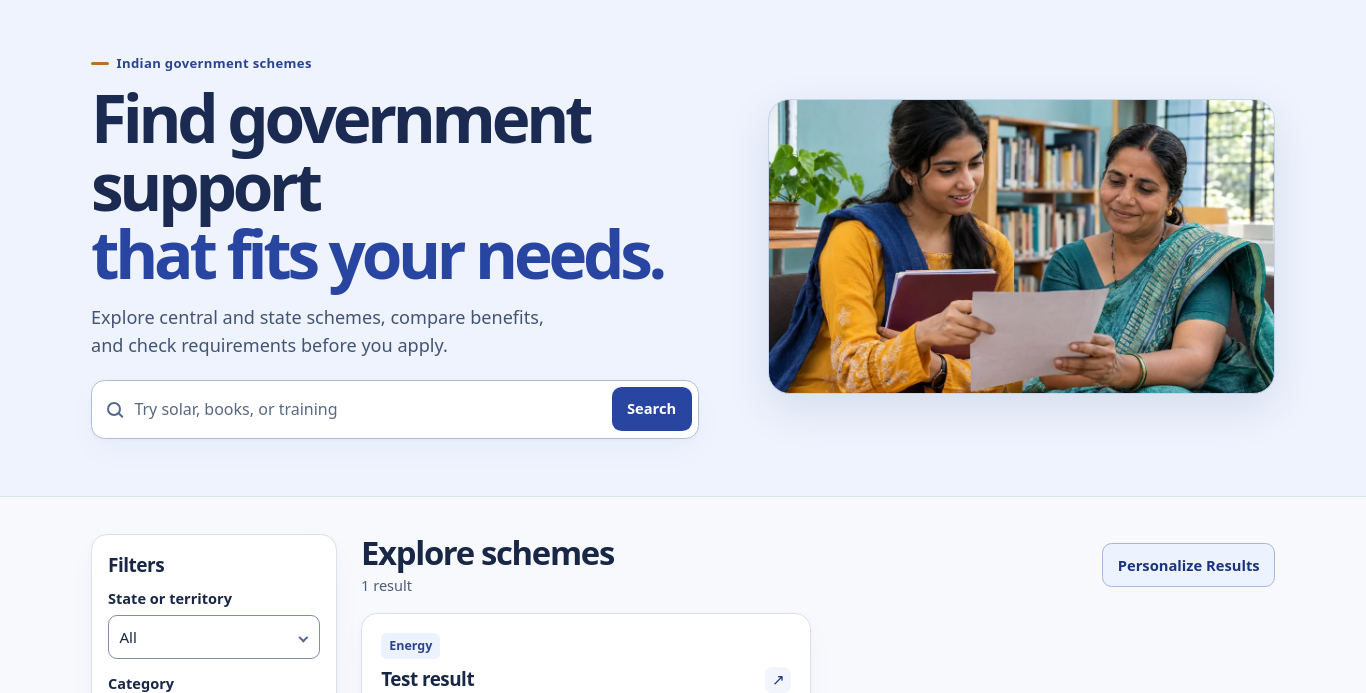
Test: formats income and shows questionnaire progress while submitting unchanged API values
This screenshot has width=1366, height=693.
Expected: the link "Test result" is shown, [381,668,791,692]
Click the button "Personalize Results". click: (1189, 565)
box: [1102,543,1275,587]
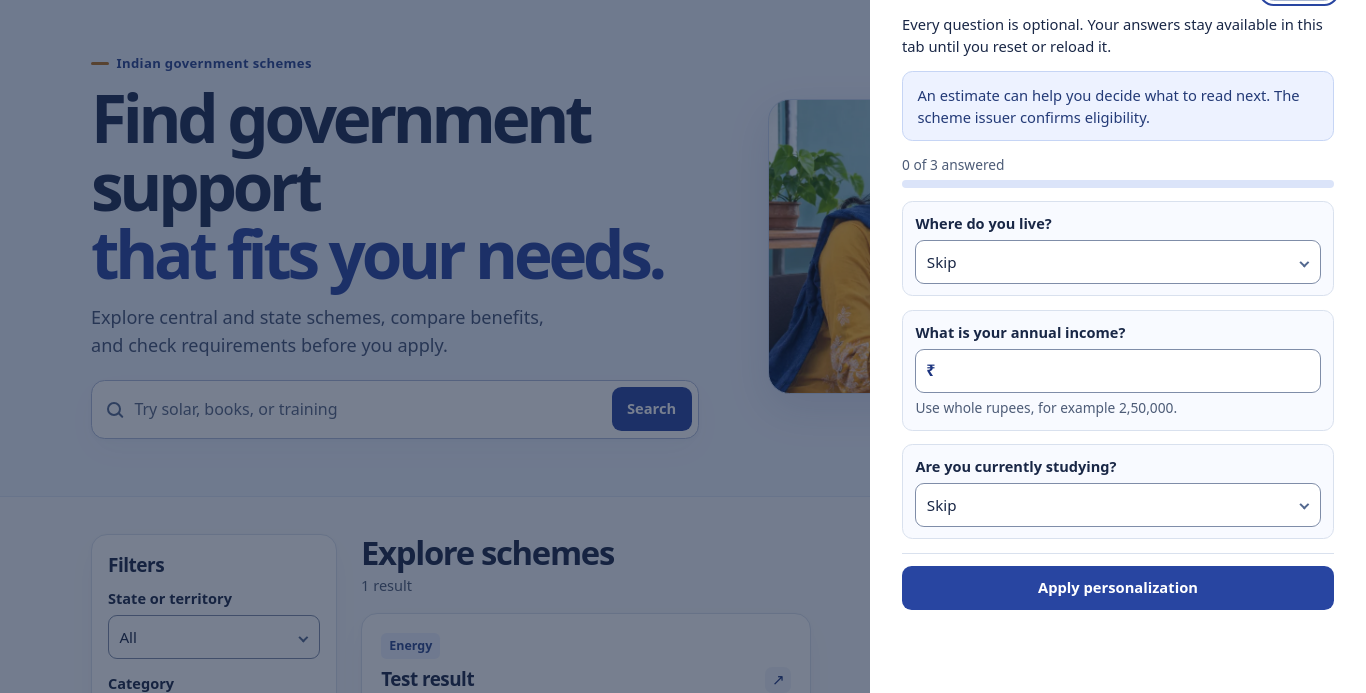
Expected: the progress indicator named "Questions answered" holds "0", [902,180,1334,188]
Type "250000" into the field labelled "What is your annual income?". click: (1118, 371)
box: [916,349,1321,393]
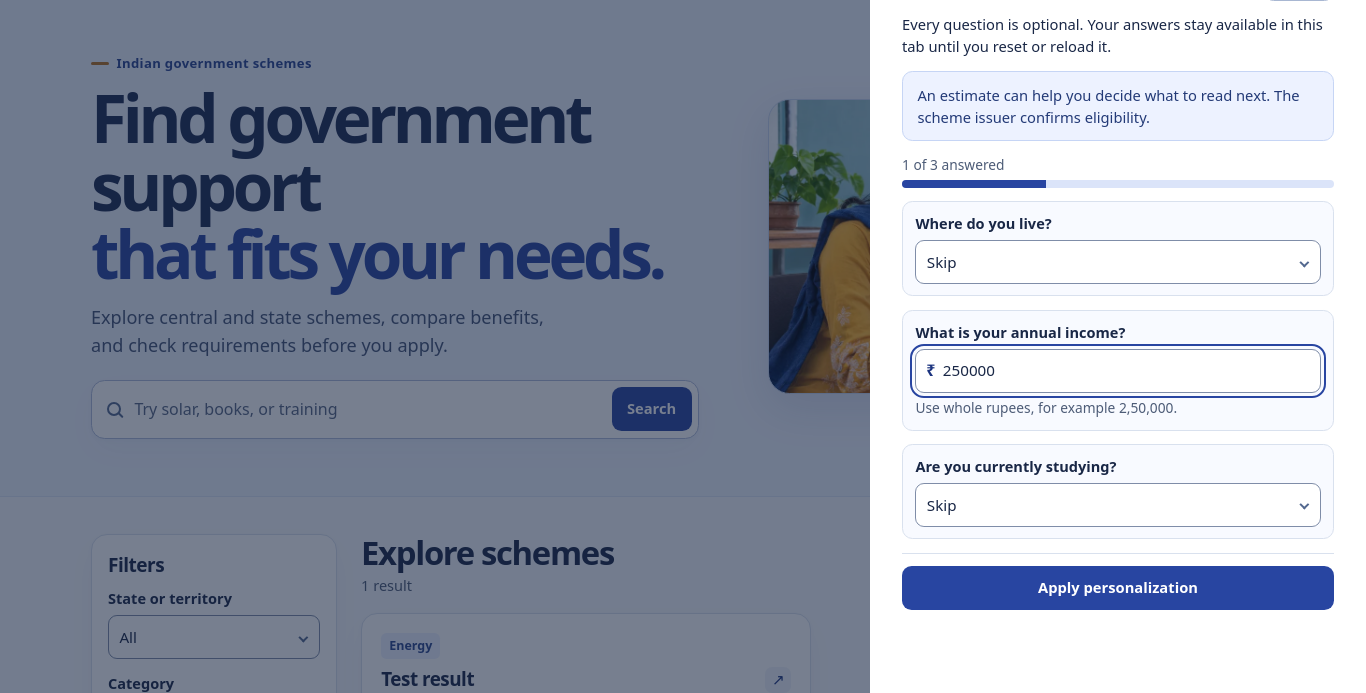
Press Tab
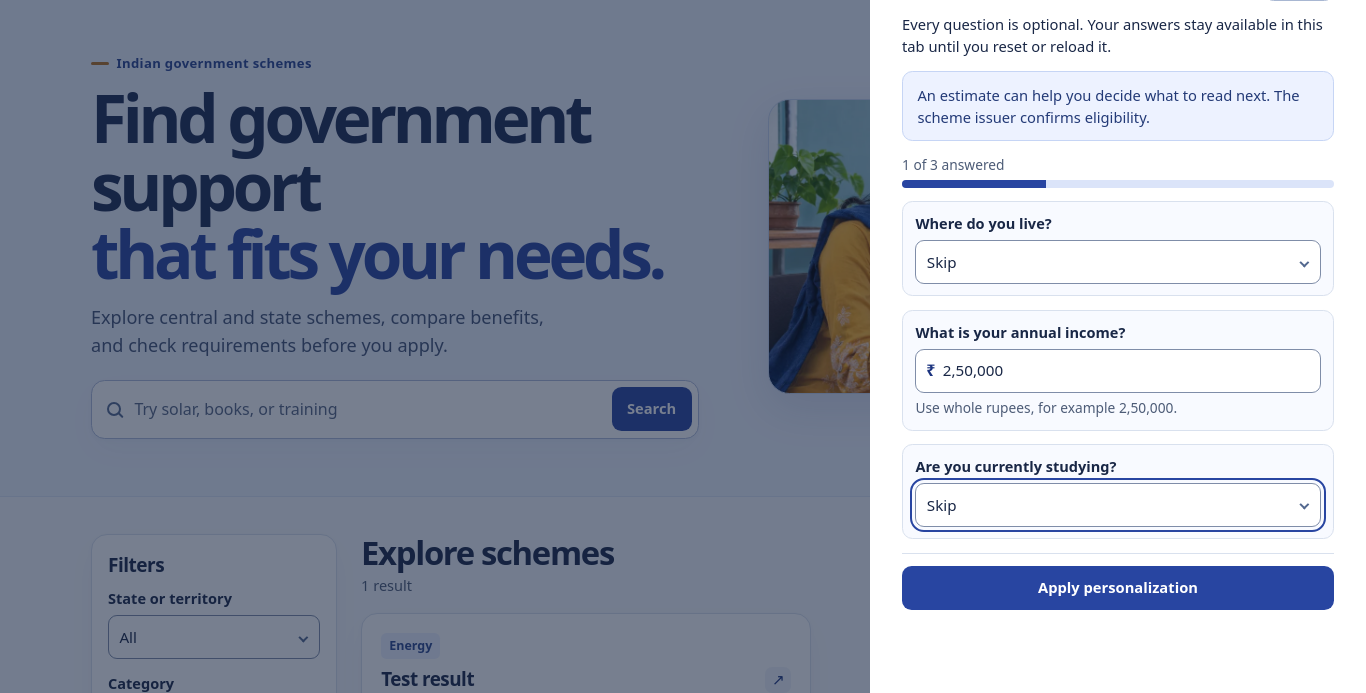
Expected: the field labelled "What is your annual income?" holds "2,50,000", [916,349,1321,393]
Select "Maharashtra (MH)" in the dropdown labelled "Where do you live?". click: (1118, 262)
box: [916,240,1321,284]
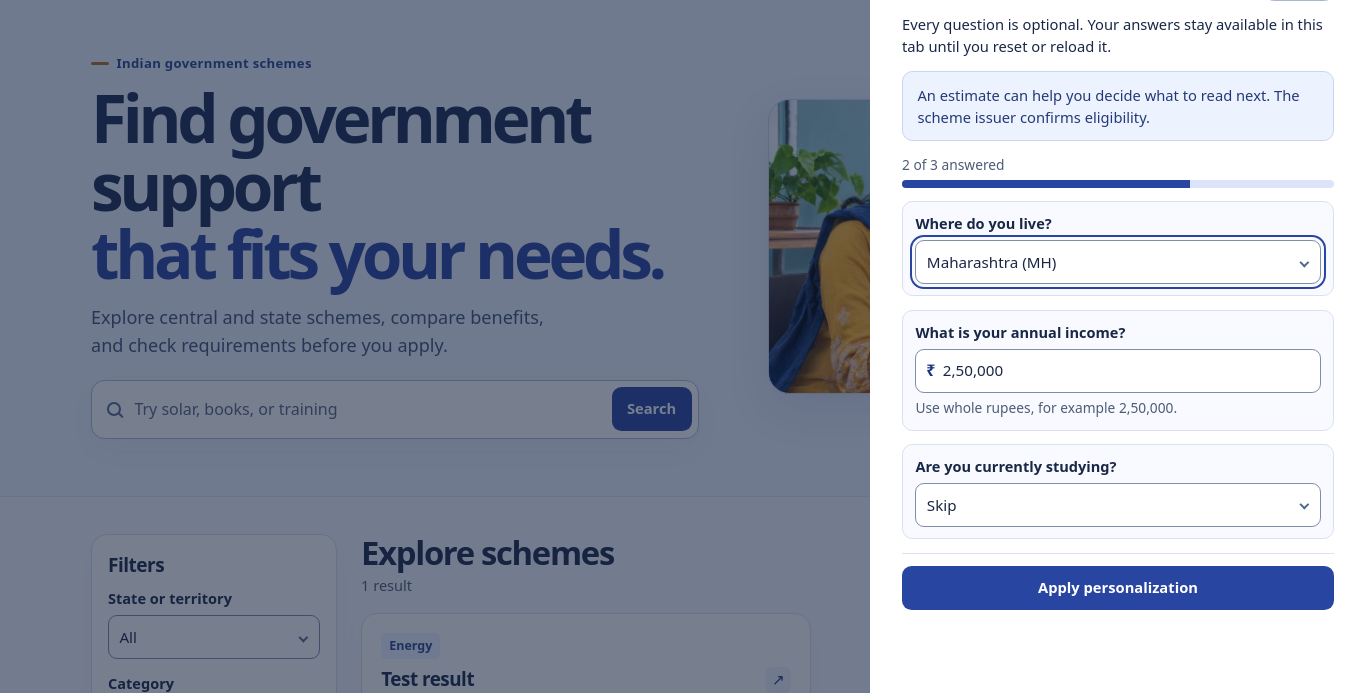
Expected: the text "2 of 3 answered" is shown, [902,154,1004,174]
Click the button "Apply personalization". click: (1118, 588)
box: [902,566,1334,610]
(page scrolled)
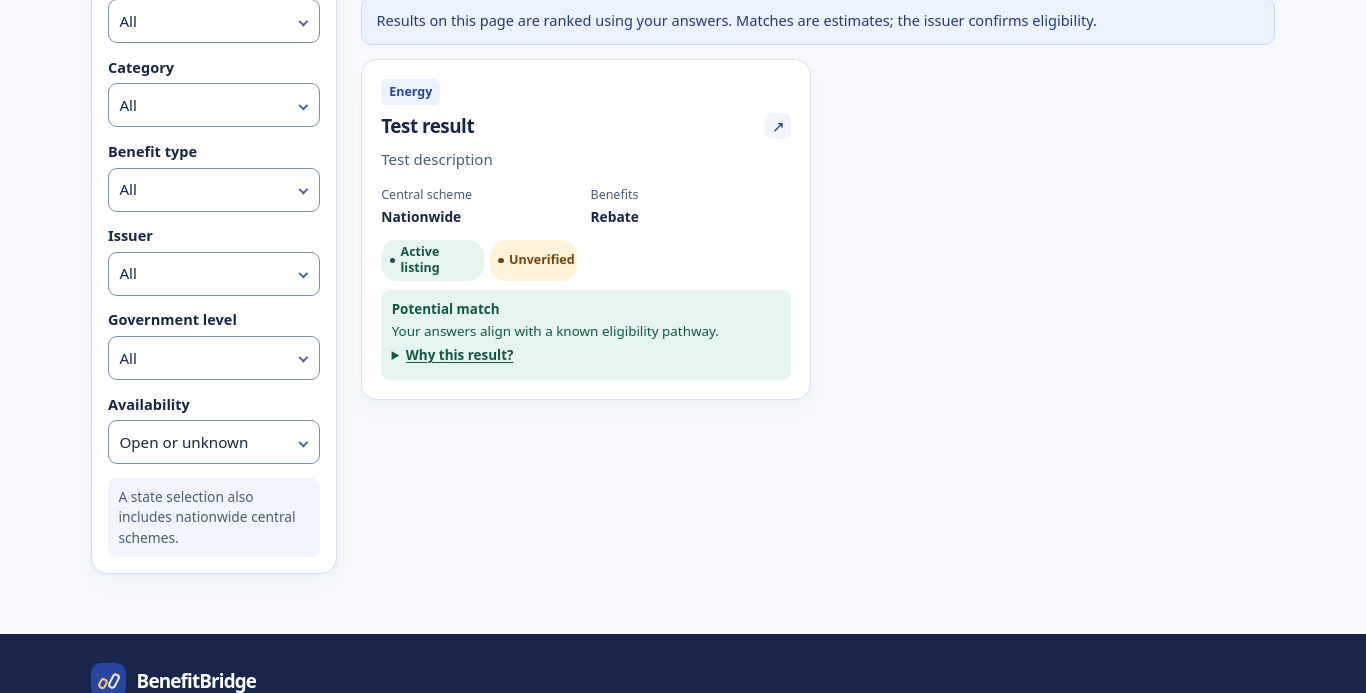
Expected: the text "Potential match" is shown, [392,300,500,318]
